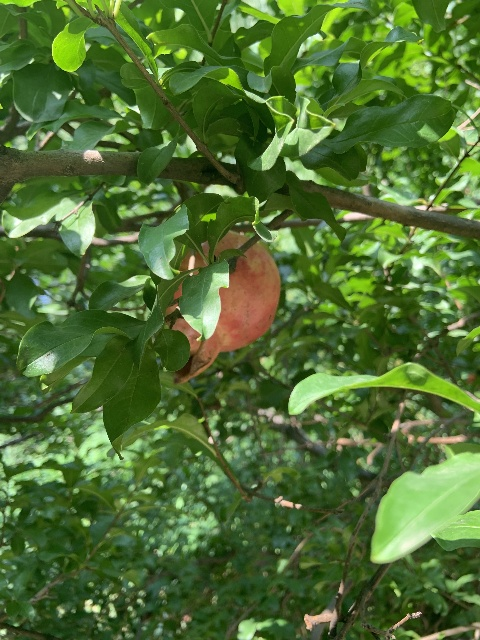ripe: (167, 231, 280, 382)
